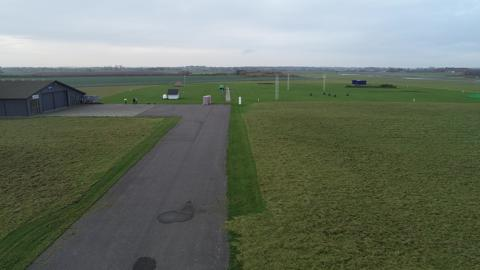RockwoolPallet: (206, 94, 213, 107)
